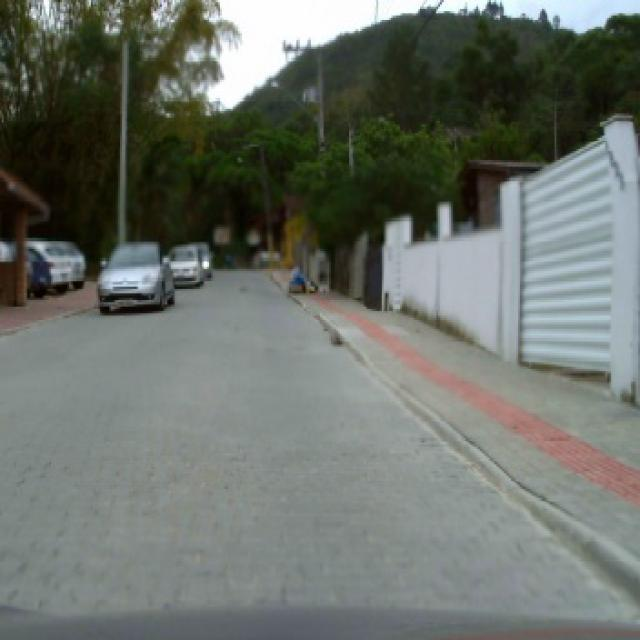Poth-hole: (327, 332, 342, 344)
